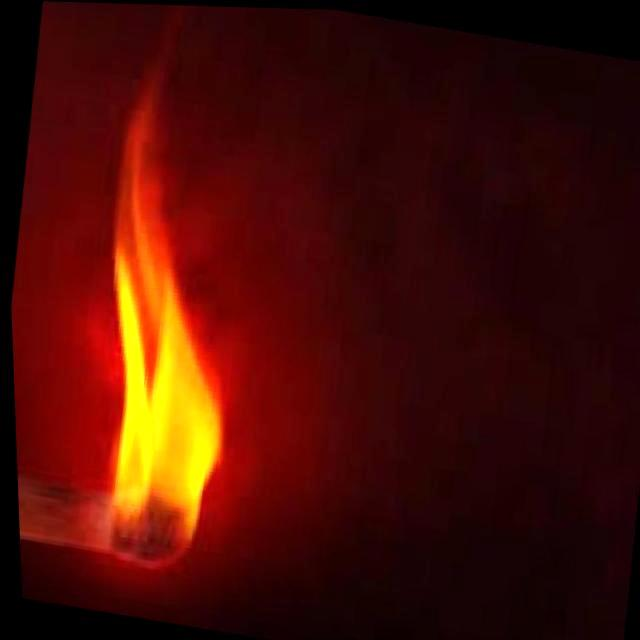fire: (62, 168, 264, 584)
